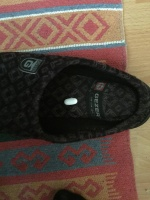Centik Buskopan: (63, 97, 78, 106)
